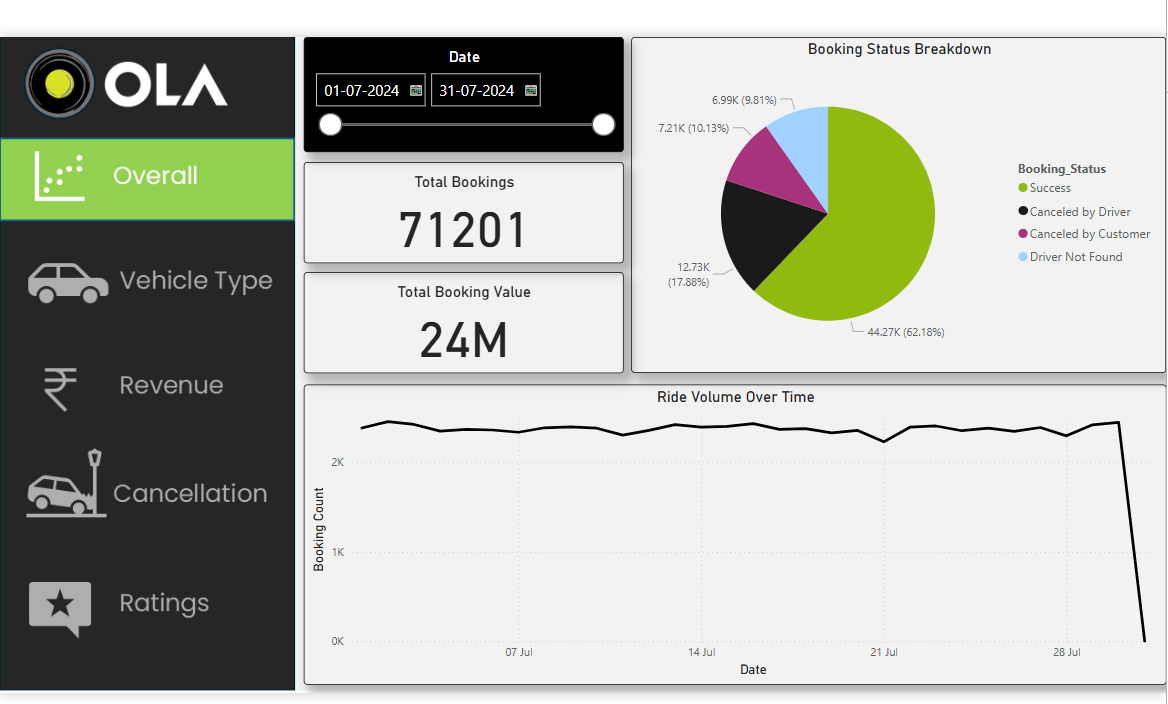

What the dashboard file says about the page in this screenshot:
{"tool":"powerbi","page":{"name":"Overall","canvas":[1280,720],"ordinal":0},"visuals":[{"type":"actionButton","box":[0,224.4,324.5,89.3],"z":0},{"type":"actionButton","box":[0,336.6,324.5,89.3],"z":1000},{"type":"actionButton","box":[0,454.8,324.5,89.3],"z":2000},{"type":"actionButton","box":[0,580.3,324.5,89.3],"z":3000},{"type":"lineChart","title":"Ride Volume Over Time","fields":{"Y":["CountNonNull(July.Booking_ID)"],"Category":["July.Date"]},"box":[333,381.2,947.1,329.4],"z":4000},{"type":"pieChart","title":"Booking Status Breakdown","fields":{"Y":["CountNonNull(July.Booking_Status)"],"Category":["July.Booking_Status"]},"box":[692.5,0,587.5,369.2],"z":5000},{"type":"slicer","title":"Date","fields":{"Values":["July.Date"]},"box":[333,0,351.1,126.7],"z":6000},{"type":"card","title":"Total Bookings","fields":{"Values":["CountNonNull(July.Booking_ID)"]},"box":[333,137.5,351.1,111],"z":7000},{"type":"card","title":"Total Booking Value","fields":{"Values":["Sum(July.Booking_Value)"]},"box":[333,258.2,351.1,111],"z":8000}]}

Visuals, with their boxes on the page's 1280x720 design canvas (x1, y1, x2, y2). These are canvas units, not pixel positions in the 1168x704 screenshot, which may show the page scaled, cropped or inside an application window:
actionButton: {"left": 0, "top": 224, "right": 324, "bottom": 314}
actionButton: {"left": 0, "top": 337, "right": 324, "bottom": 426}
actionButton: {"left": 0, "top": 455, "right": 324, "bottom": 544}
actionButton: {"left": 0, "top": 580, "right": 324, "bottom": 670}
"Ride Volume Over Time" lineChart: {"left": 333, "top": 381, "right": 1280, "bottom": 711}
"Booking Status Breakdown" pieChart: {"left": 692, "top": 0, "right": 1280, "bottom": 369}
"Date" slicer: {"left": 333, "top": 0, "right": 684, "bottom": 127}
"Total Bookings" card: {"left": 333, "top": 138, "right": 684, "bottom": 248}
"Total Booking Value" card: {"left": 333, "top": 258, "right": 684, "bottom": 369}
